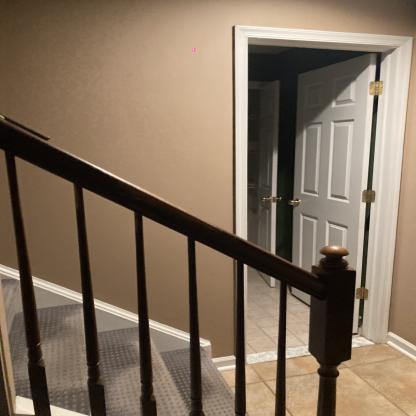target: (193, 43, 200, 54)
